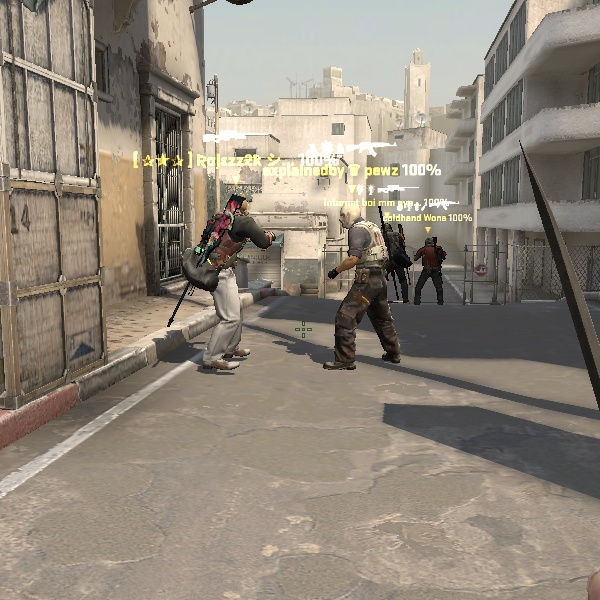t_body: (193, 191, 284, 380), (318, 198, 405, 375), (406, 229, 452, 308)
t_head: (334, 200, 368, 233), (221, 188, 252, 223), (421, 234, 440, 252)
